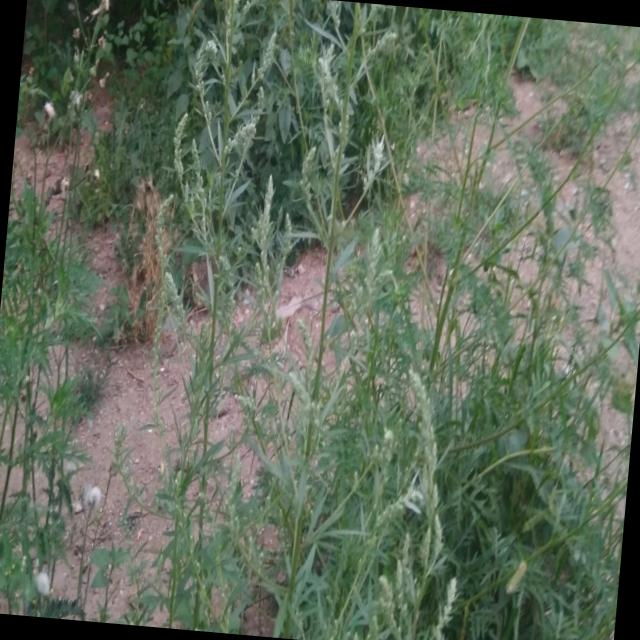ambrosia: (131, 0, 284, 607), (360, 351, 486, 640), (294, 0, 396, 308)
